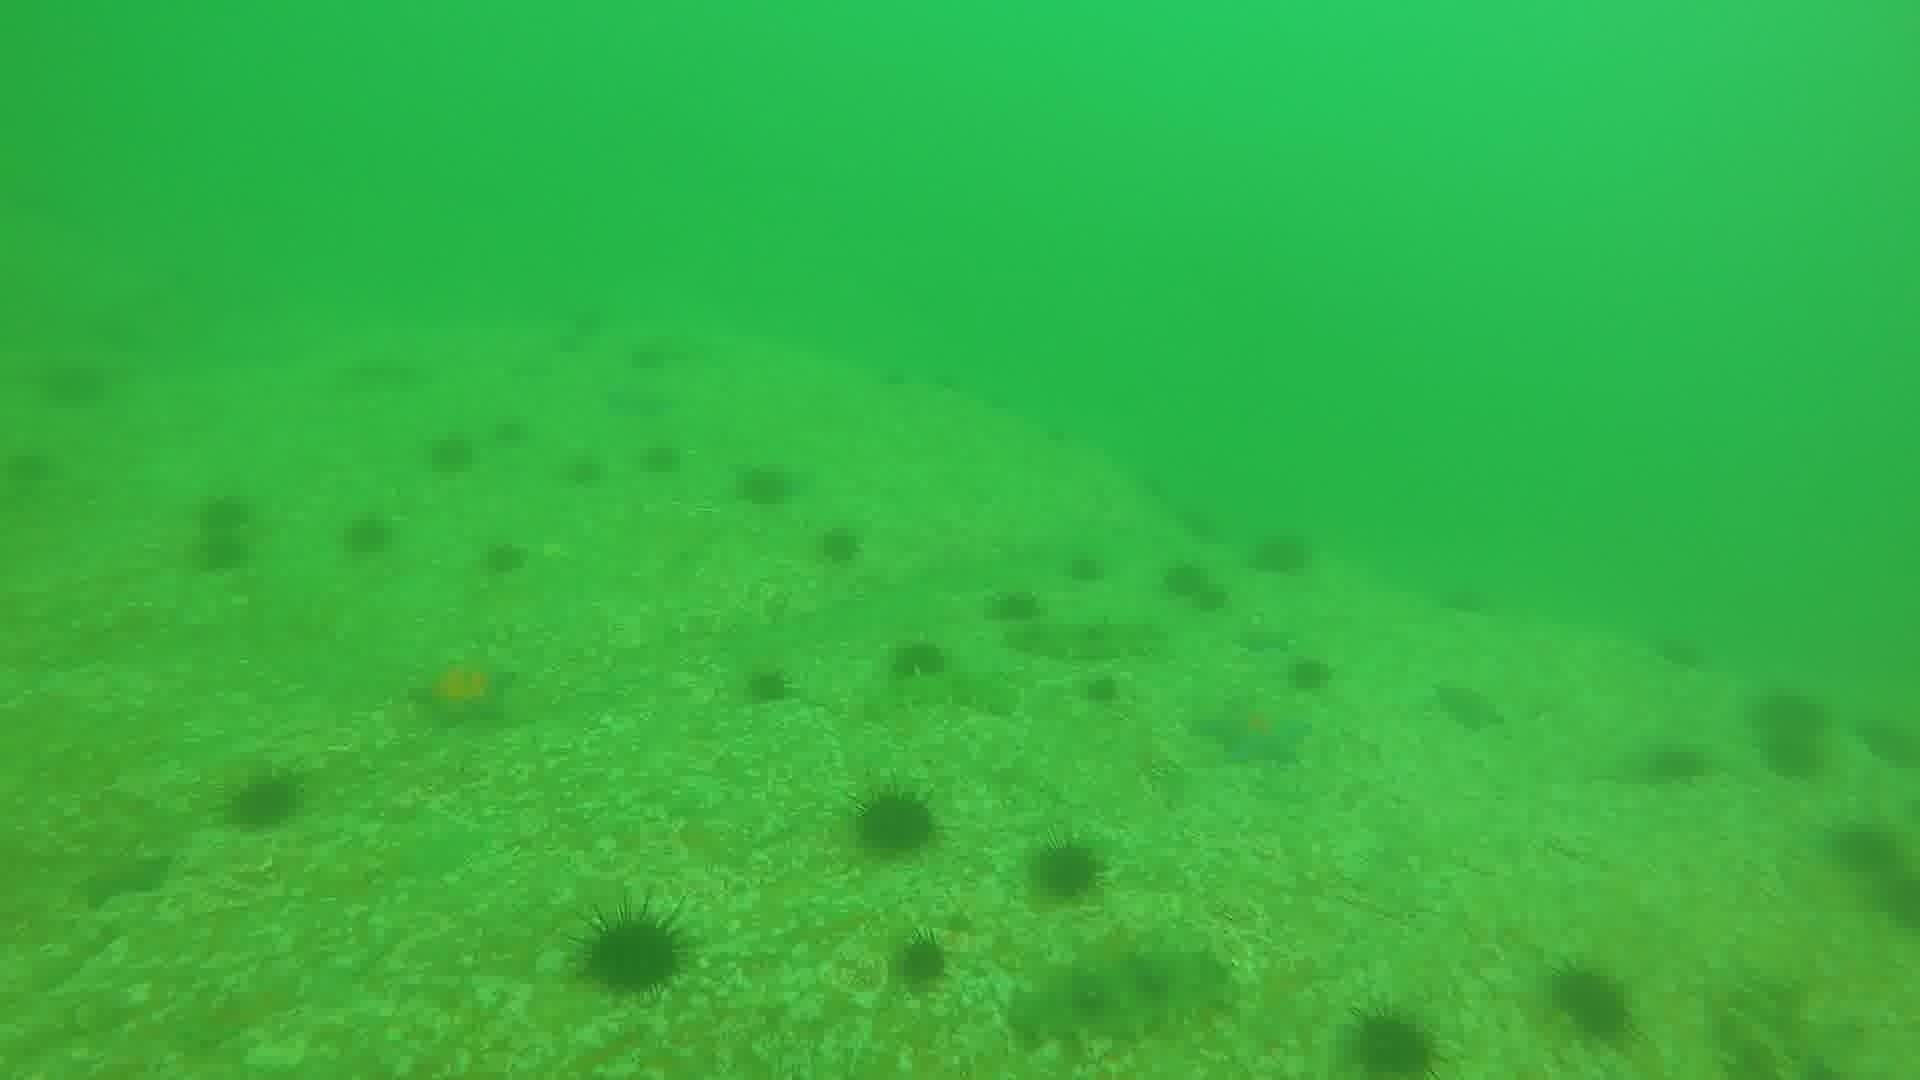echinus: (574, 902, 694, 1001), (1545, 960, 1636, 1046), (1340, 1005, 1444, 1075), (849, 785, 942, 862), (1026, 835, 1108, 905), (189, 492, 257, 575), (223, 767, 305, 835), (1828, 818, 1904, 882), (887, 930, 955, 996), (38, 353, 113, 411), (1854, 709, 1919, 771), (1159, 556, 1228, 615), (1750, 687, 1826, 738), (1640, 738, 1712, 791), (1249, 526, 1316, 580), (884, 636, 952, 687), (733, 459, 796, 512), (338, 509, 397, 562), (422, 429, 480, 480), (740, 661, 798, 709), (1651, 628, 1709, 673), (814, 521, 866, 568), (985, 584, 1044, 626), (1763, 733, 1821, 775), (477, 535, 530, 582), (1284, 651, 1336, 698), (637, 436, 686, 480), (560, 448, 607, 491), (1079, 670, 1126, 711), (1062, 547, 1106, 588)
holothurian: (1010, 938, 1237, 1058), (1011, 608, 1163, 669)
starfish: (407, 646, 521, 733), (1193, 695, 1313, 769), (200, 967, 306, 1042), (71, 845, 173, 913), (1429, 676, 1506, 736), (1233, 616, 1296, 658)
